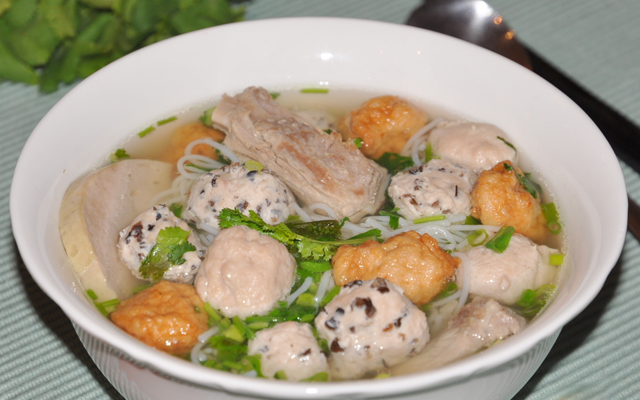chamoc: (200, 216, 302, 323), (314, 272, 426, 366), (450, 223, 559, 301), (114, 207, 205, 289), (188, 174, 300, 239), (388, 156, 478, 226)
pork: (218, 84, 388, 226)
